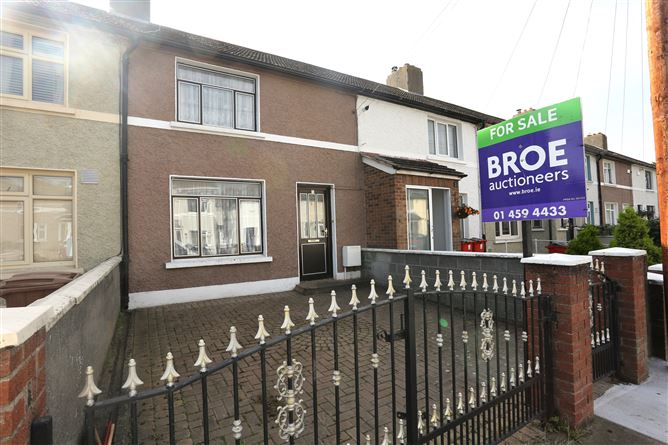property sign: (463, 93, 586, 226)
